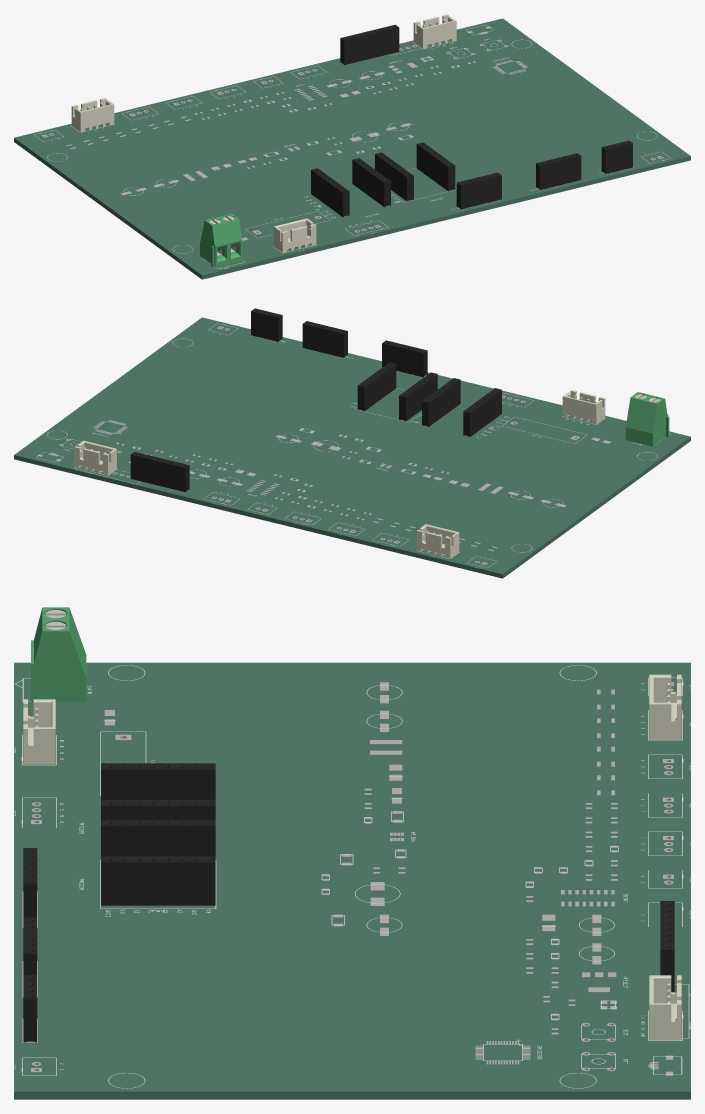
Rendered from sockets_pads.glb.
3 renders of one model, top to bottom at view 1: azimuth 30°, elevation 25°; view 2: azimuth 150°, elevation 25°; view 3: azimuth 270°, elevation 25°, orthographic. The views are drawn at different scales.
Visible parts, largest first — view 1: =>[0:1:1:14], =>[0:1:1:5] (×5), =>[0:1:1:7] (×3), =>[0:1:1:9] (×2), =>[0:1:1:12], =>[0:1:1:3], =>[0:1:1:13], =>[0:1:1:11]; view 2: =>[0:1:1:14], =>[0:1:1:5] (×5), =>[0:1:1:7] (×3), =>[0:1:1:9] (×2), =>[0:1:1:12], =>[0:1:1:3], =>[0:1:1:13], =>[0:1:1:11]; view 3: =>[0:1:1:14], =>[0:1:1:5] (×5), =>[0:1:1:12], =>[0:1:1:7] (×3), =>[0:1:1:3], =>[0:1:1:13], =>[0:1:1:9] (×2), =>[0:1:1:11].
Boxes of the visible parts, x1,y1,x2,y2 form: =>[0:1:1:14]: (14,18,690,279); =>[0:1:1:5] (×5): (311,24,455,216); =>[0:1:1:7] (×3): (71,14,456,252); =>[0:1:1:9] (×2): (456,153,581,209); =>[0:1:1:12]: (41,26,663,249); =>[0:1:1:3]: (200,213,242,267); =>[0:1:1:13]: (34,25,670,268); =>[0:1:1:11]: (601,140,632,174); =>[0:1:1:14]: (14,317,690,578); =>[0:1:1:5] (×5): (130,362,501,492); =>[0:1:1:7] (×3): (74,390,605,558); =>[0:1:1:9] (×2): (302,321,427,377); =>[0:1:1:12]: (37,326,611,565); =>[0:1:1:3]: (625,392,669,446); =>[0:1:1:13]: (36,323,670,567); =>[0:1:1:11]: (251,308,282,341); =>[0:1:1:14]: (14,662,690,1099); =>[0:1:1:5] (×5): (101,763,674,992); =>[0:1:1:12]: (28,682,673,1075); =>[0:1:1:7] (×3): (23,674,681,1040); =>[0:1:1:3]: (31,607,86,701); =>[0:1:1:13]: (14,665,690,1088); =>[0:1:1:9] (×2): (23,848,37,974); =>[0:1:1:11]: (23,975,37,1042).
Bounding box in the file's own units: 0.18 × 0.0173 × 0.12.
